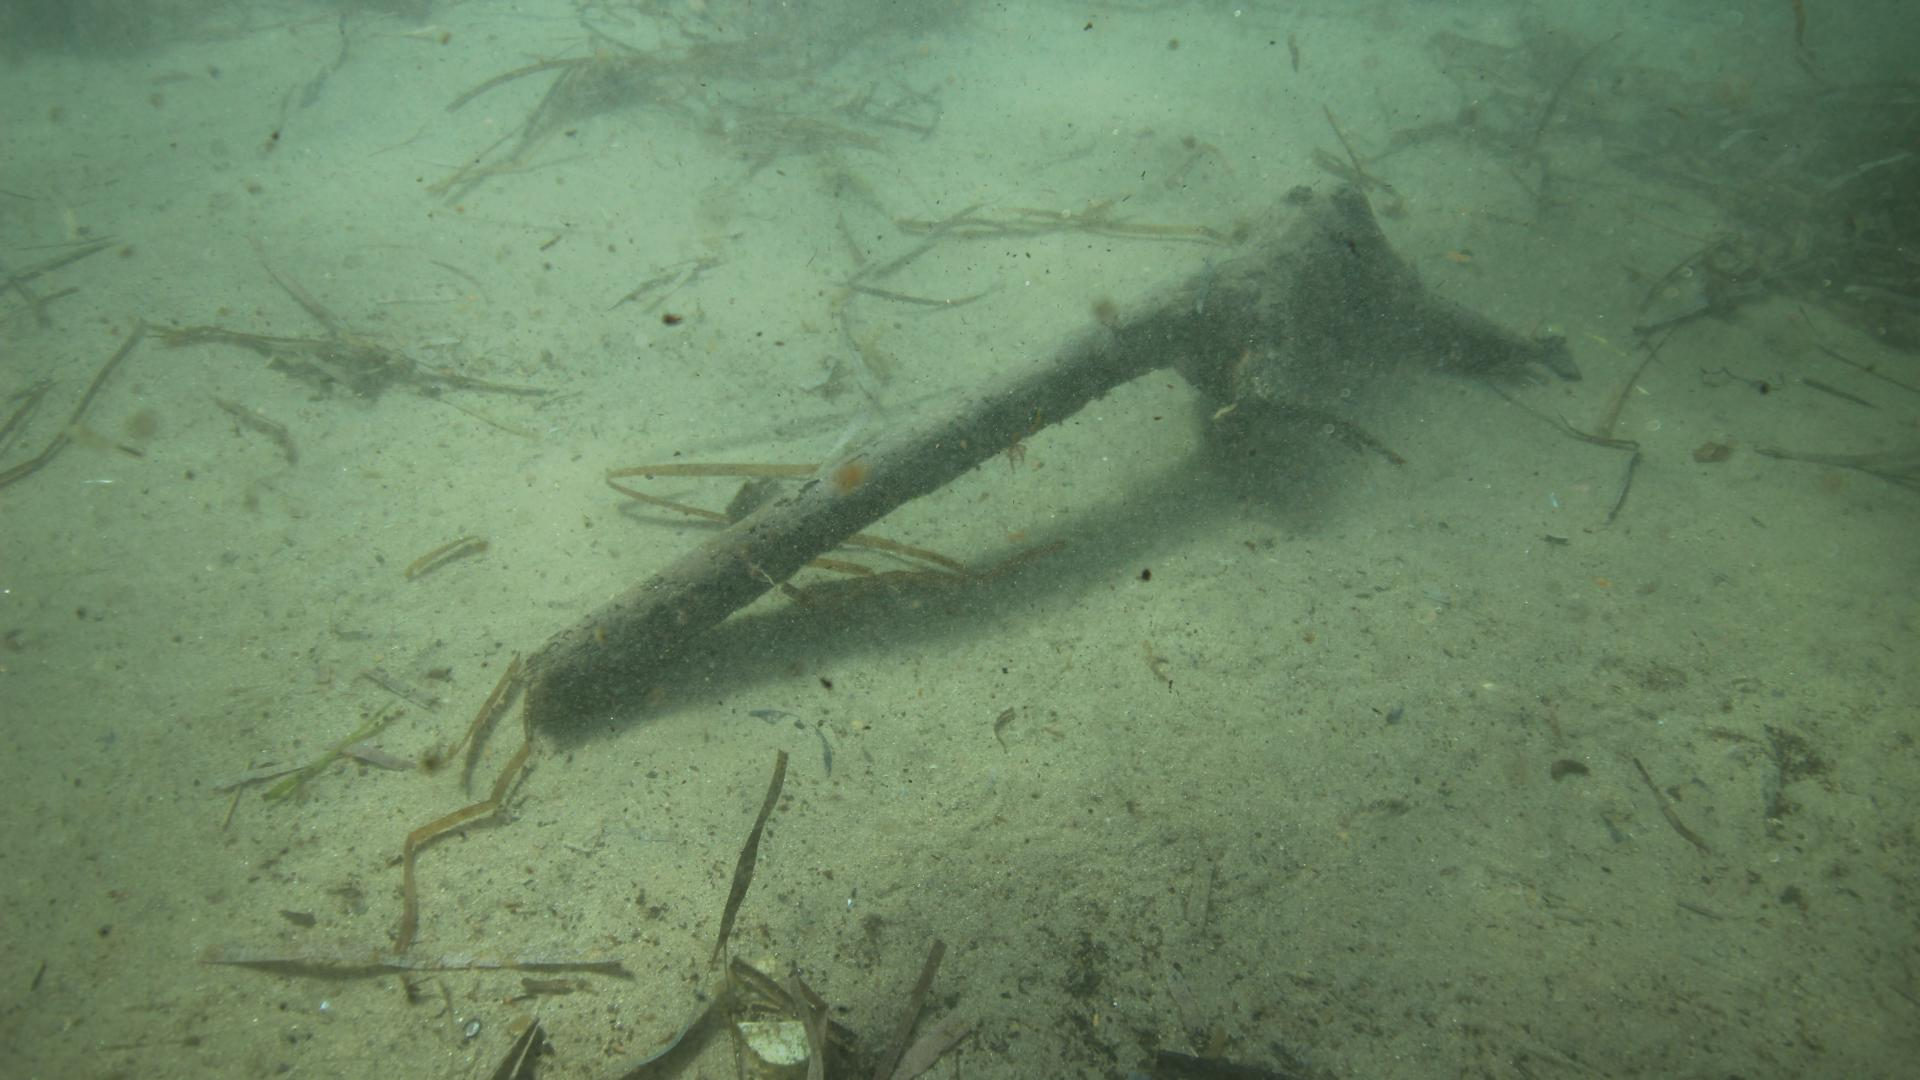wood: (520, 181, 1543, 727)
